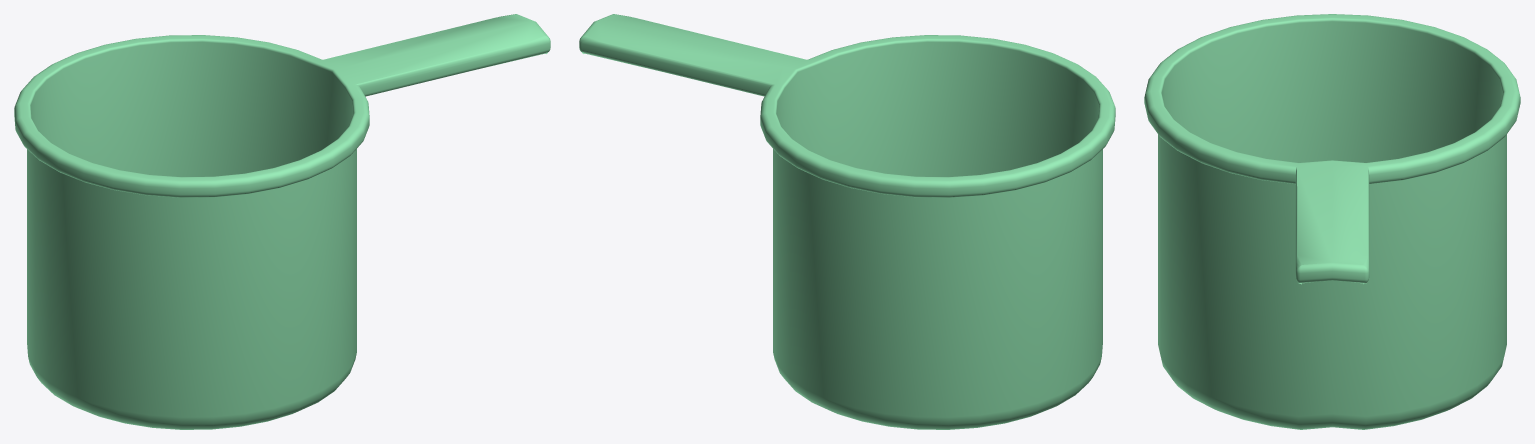
Rendered from Tabo.fbx.
3 views of the same model, side by side, from view 1: azimuth 30°, elevation 25°; view 2: azimuth 150°, elevation 25°; view 3: azimuth 270°, elevation 25° (orthographic). The views are drawn at different scales.
Visible parts, largest first — view 1: Tabo; view 2: Tabo; view 3: Tabo.
Boxes of the visible parts, x1,y1,x2,y2 form: Tabo: [14, 14, 550, 429]; Tabo: [579, 14, 1115, 429]; Tabo: [1144, 14, 1520, 429].
Size of the model in its own units: 96.28 by 48.46 by 59.42.
